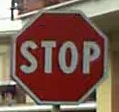stop: (9, 7, 108, 106)
